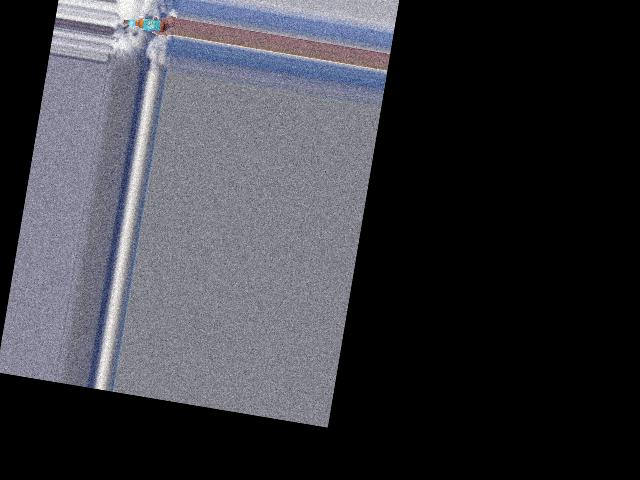beer: (122, 16, 165, 33)
